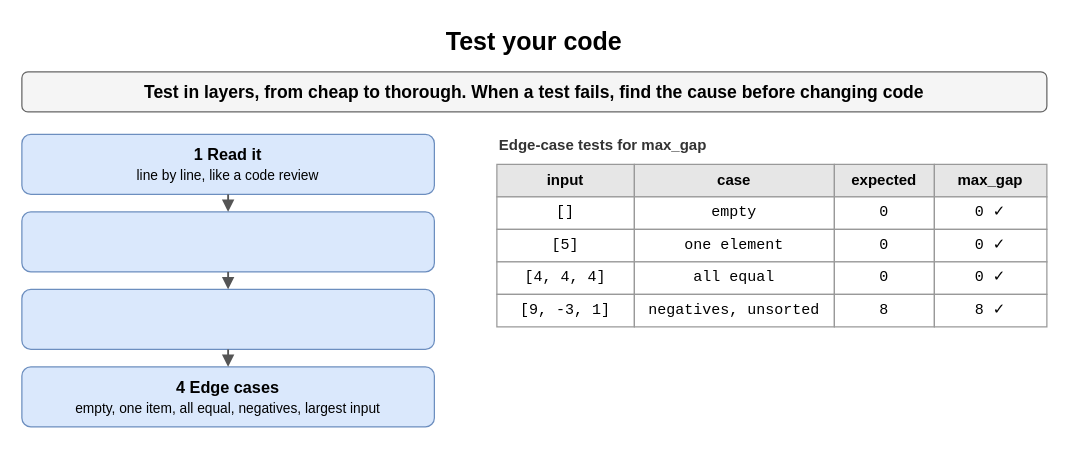
Some shapes in this 1069 by 449 pixel diagram are drawn without their labels. Here are the shapes that lost their labels. From the top down, the box of each, then its label:
(21, 211, 434, 272): 2 Hot spots loop bounds, off-by-one, base cases, empty input
(21, 288, 434, 349): 3 Small example trace a small input by hand, not the big one
